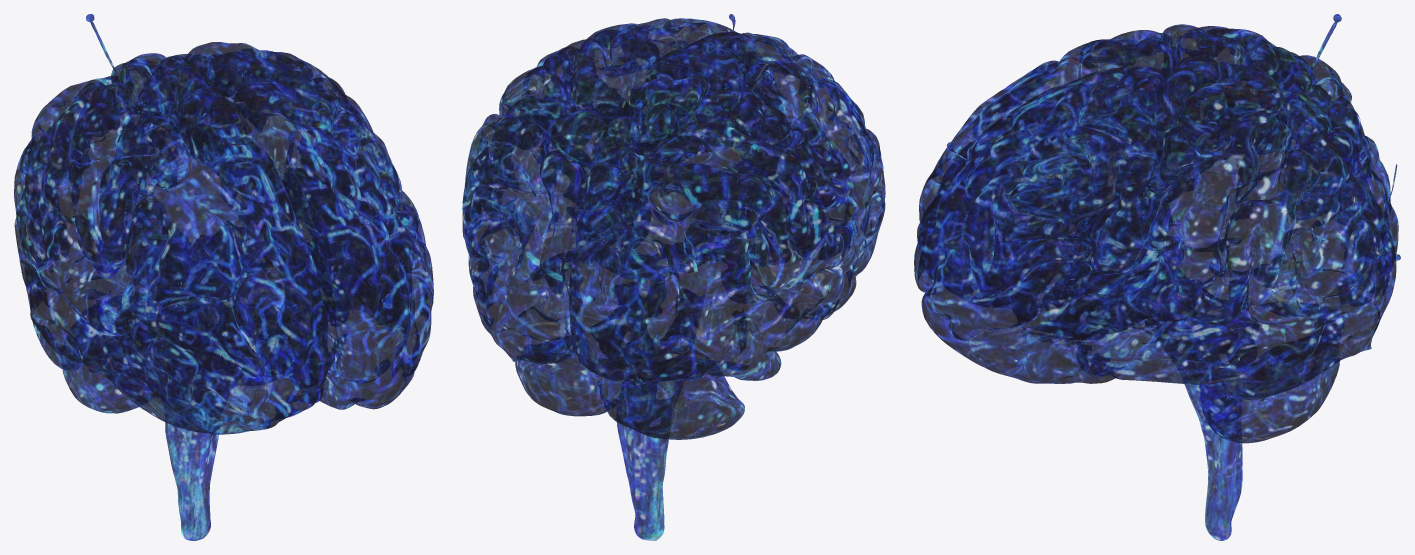
Rendered from brain.glb.
3 views of the same model, side by side, from view 1: azimuth 30°, elevation 25°; view 2: azimuth 150°, elevation 25°; view 3: azimuth 270°, elevation 25° (orthographic).
Parts seen in each view (by area): view 1: Mesh_0; view 2: Mesh_0; view 3: Mesh_0.
Part boxes in pixels (box(x1,y1,x2,y2)): Mesh_0: box(14, 14, 433, 540); Mesh_0: box(462, 14, 885, 540); Mesh_0: box(914, 14, 1400, 540).
Size of the model in its own units: 1.34 by 1.89 by 1.67.
1 material, 1 textured.
